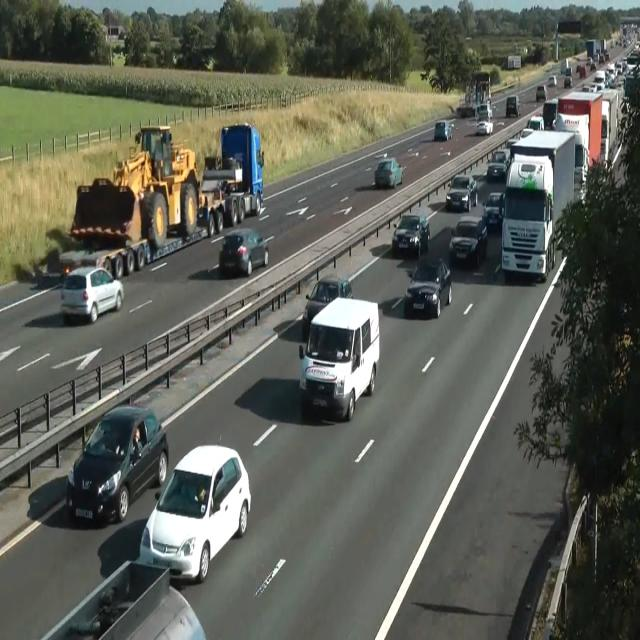bus: (140, 444, 252, 583), (40, 559, 206, 639), (60, 265, 124, 323), (302, 276, 352, 340), (219, 228, 269, 276), (446, 174, 478, 212), (375, 158, 403, 188), (482, 191, 504, 229), (486, 148, 510, 180), (506, 127, 534, 149), (434, 120, 452, 140), (506, 95, 520, 117), (474, 103, 492, 120), (475, 120, 493, 135), (528, 114, 544, 130), (536, 85, 548, 102), (518, 127, 534, 139), (577, 64, 586, 77), (548, 75, 557, 85), (564, 76, 572, 87)
car: (68, 122, 200, 250)
jeep: (65, 404, 168, 524), (298, 296, 380, 420), (404, 256, 452, 317), (448, 217, 488, 267), (392, 212, 429, 257)
minibus: (500, 129, 588, 282), (198, 122, 264, 235), (542, 87, 620, 177), (456, 71, 492, 121), (586, 38, 610, 62), (501, 54, 521, 70)
